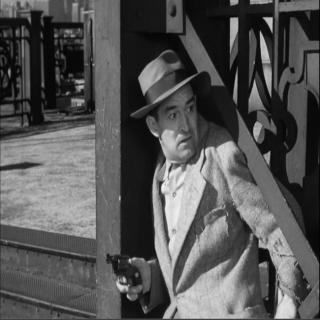gun: (97, 244, 153, 308)
